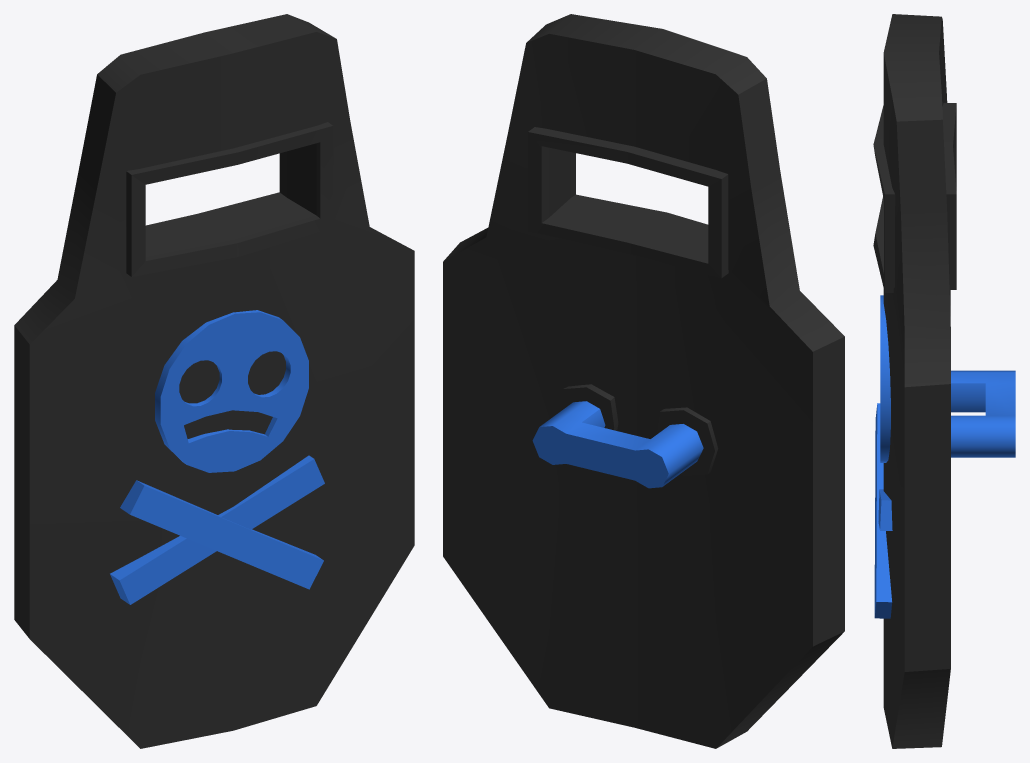
The model's file is Shield.fbx.
3 views of the same model, side by side, from view 1: azimuth 30°, elevation 25°; view 2: azimuth 150°, elevation 25°; view 3: azimuth 270°, elevation 25° (orthographic). The views are drawn at different scales.
Visible parts, largest first — view 1: Cube.006; view 2: Cube.006; view 3: Cube.006.
Part boxes in pixels (box(x1,y1,x2,y2)): Cube.006: box(14, 14, 414, 748); Cube.006: box(443, 14, 844, 748); Cube.006: box(873, 14, 1015, 748).
Size of the model in its own units: 377 by 634 by 125.
